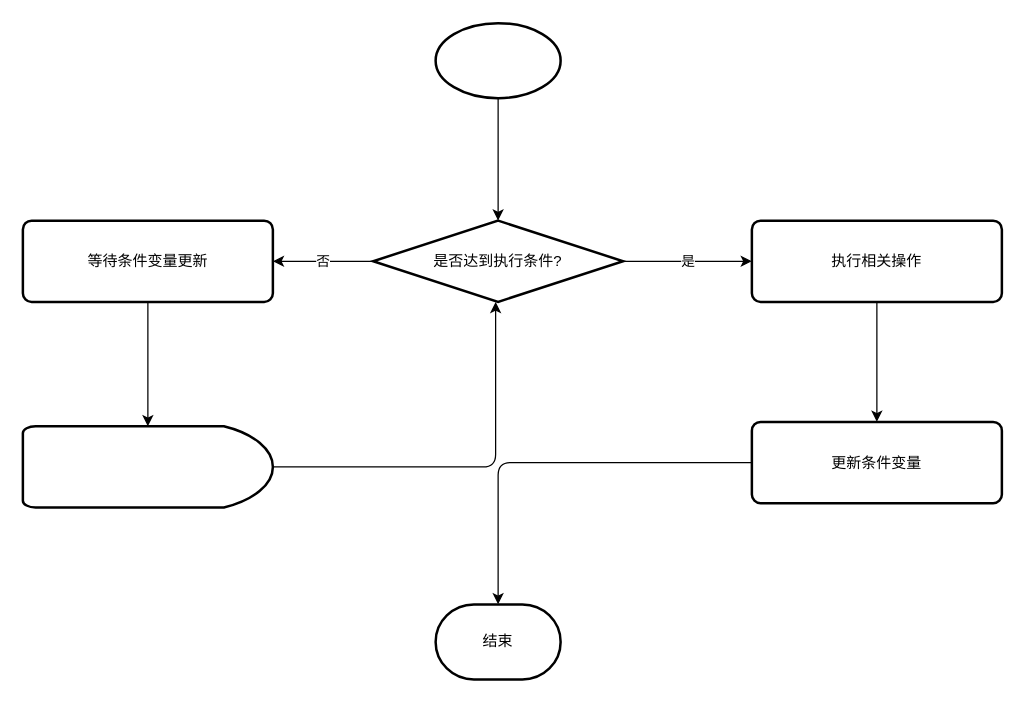
Some shapes in this 1025 by 701 pixel diagram are drawn without their labels. Here are the shapes that lost their labels. From the top down, the box of each, then its label:
(434, 21, 561, 99): 开始
(21, 424, 274, 508): 条件变量被更新
